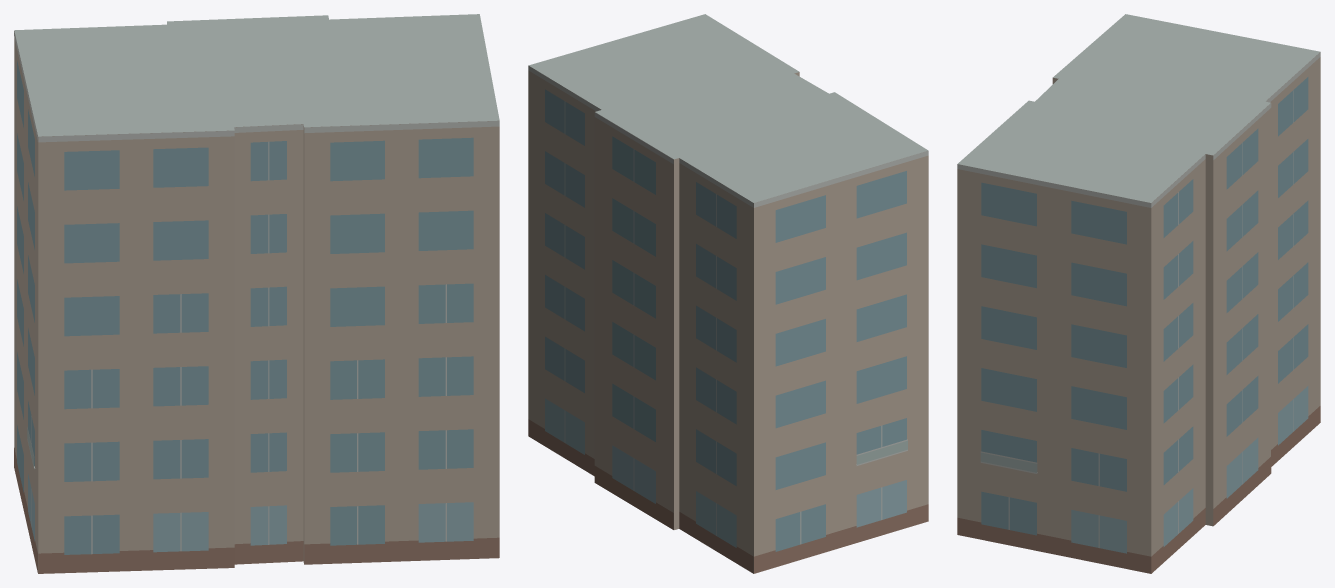
File: survey-upis-32924484.glb
3 renders of one model, left to right at view 1: azimuth 30°, elevation 25°; view 2: azimuth 150°, elevation 25°; view 3: azimuth 270°, elevation 25°, orthographic. The views are drawn at different scales.
Parts seen in each view (by area): view 1: survey-upis-32924484.tmp; view 2: survey-upis-32924484.tmp; view 3: survey-upis-32924484.tmp.
Part boxes in pixels (box(x1,y1,x2,y2)): survey-upis-32924484.tmp: box(14, 14, 499, 573); survey-upis-32924484.tmp: box(528, 14, 928, 573); survey-upis-32924484.tmp: box(957, 14, 1320, 573).
Bounding box in the file's own units: 20.01 × 18.3 × 16.25.
